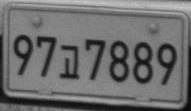7: (36, 35, 57, 77), (84, 38, 105, 80)
8: (108, 39, 130, 82), (132, 41, 154, 84)
9: (156, 42, 177, 85), (12, 33, 33, 75)
고: (58, 44, 79, 79)
